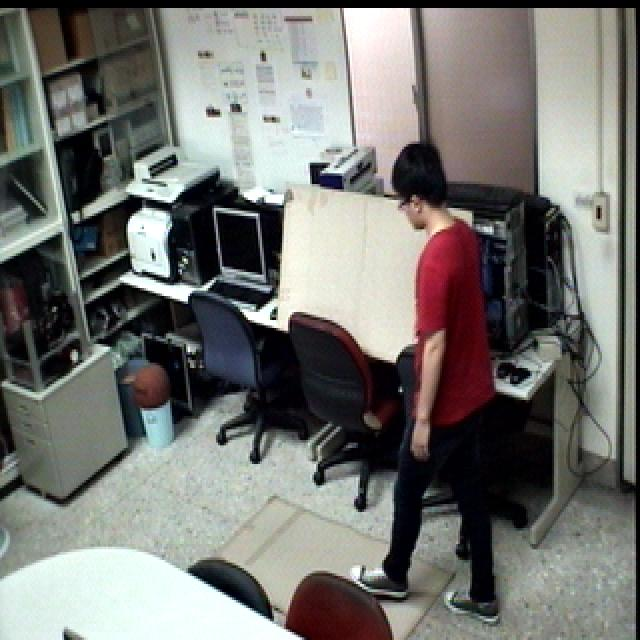stand: (351, 134, 506, 628)
